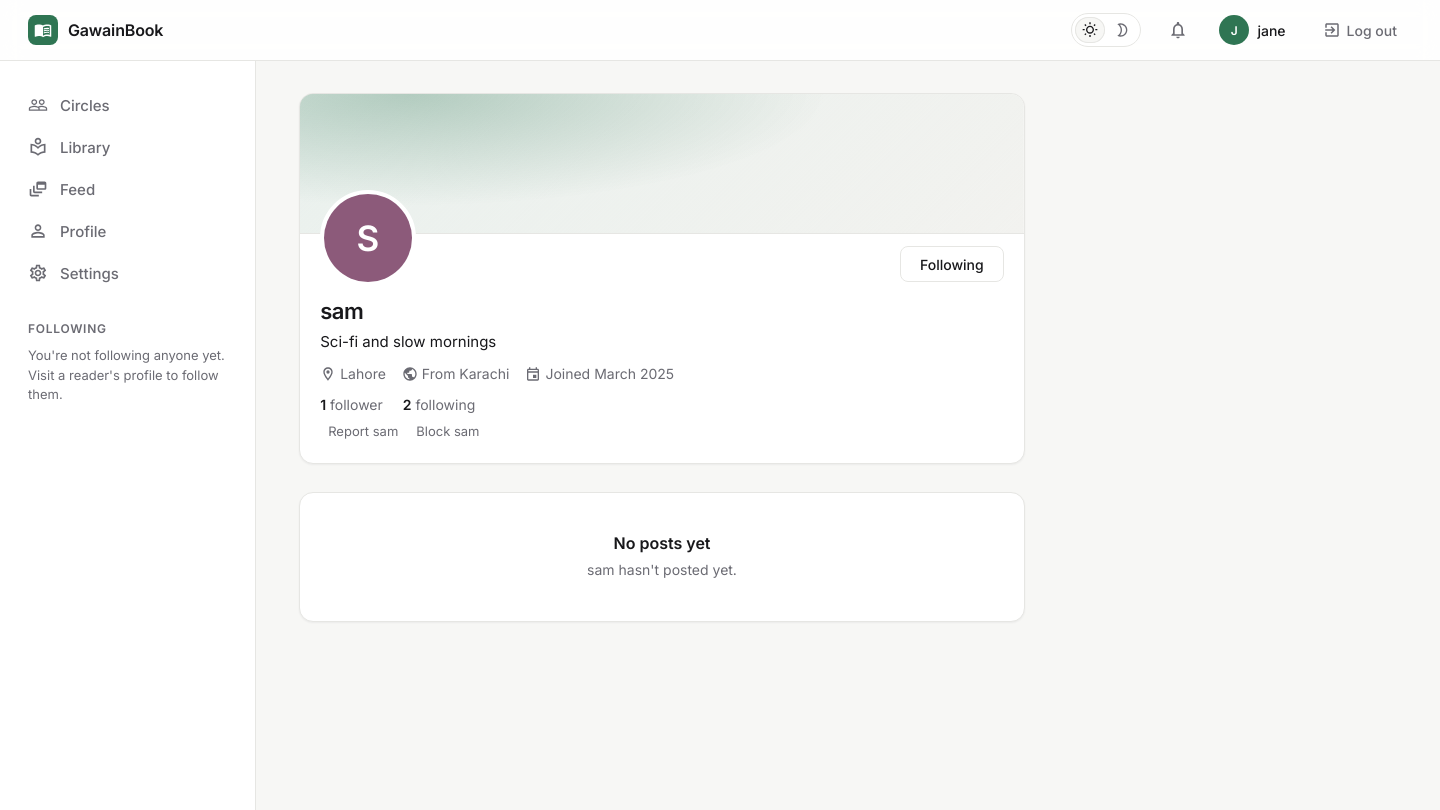
Test: unfollowing when you already follow them
Click the button "Following" at (952,264), box [900,246,1004,282]
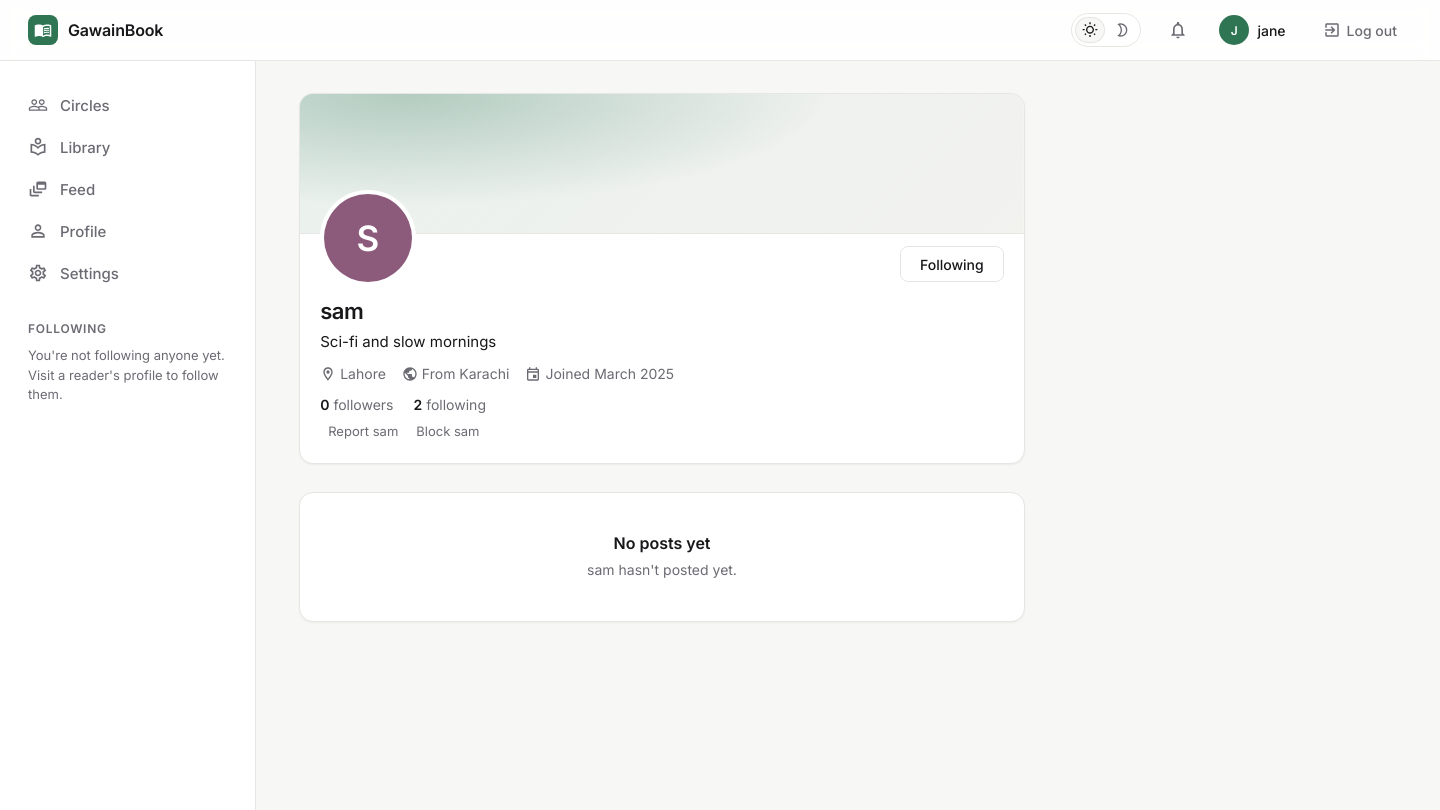
Expected: the text "0 followers" is shown, [320,396,394,413]
